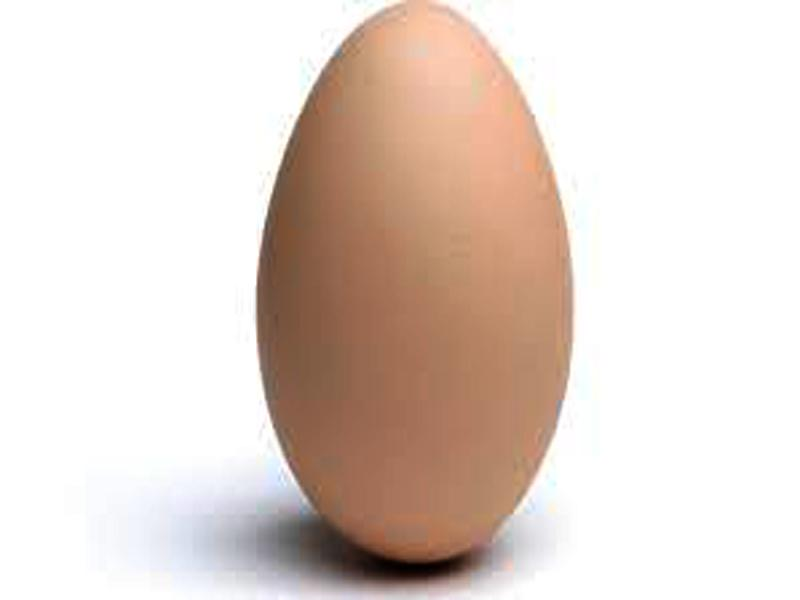Eggs: (257, 4, 570, 568)
